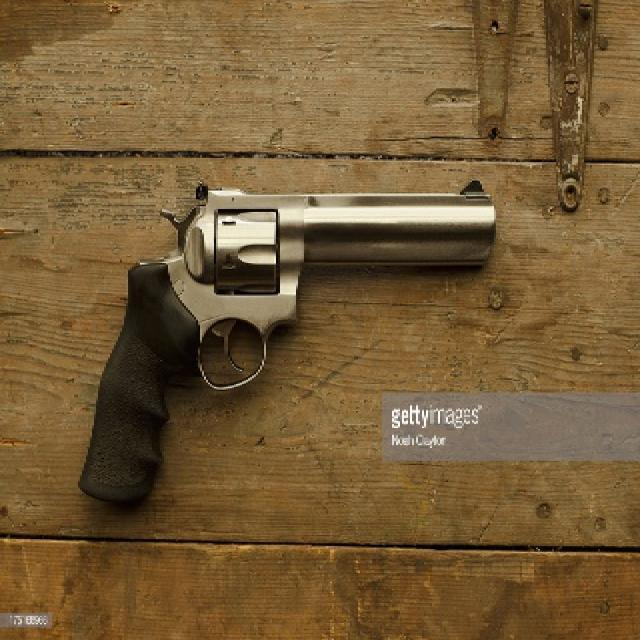weapon: (66, 178, 496, 507)
